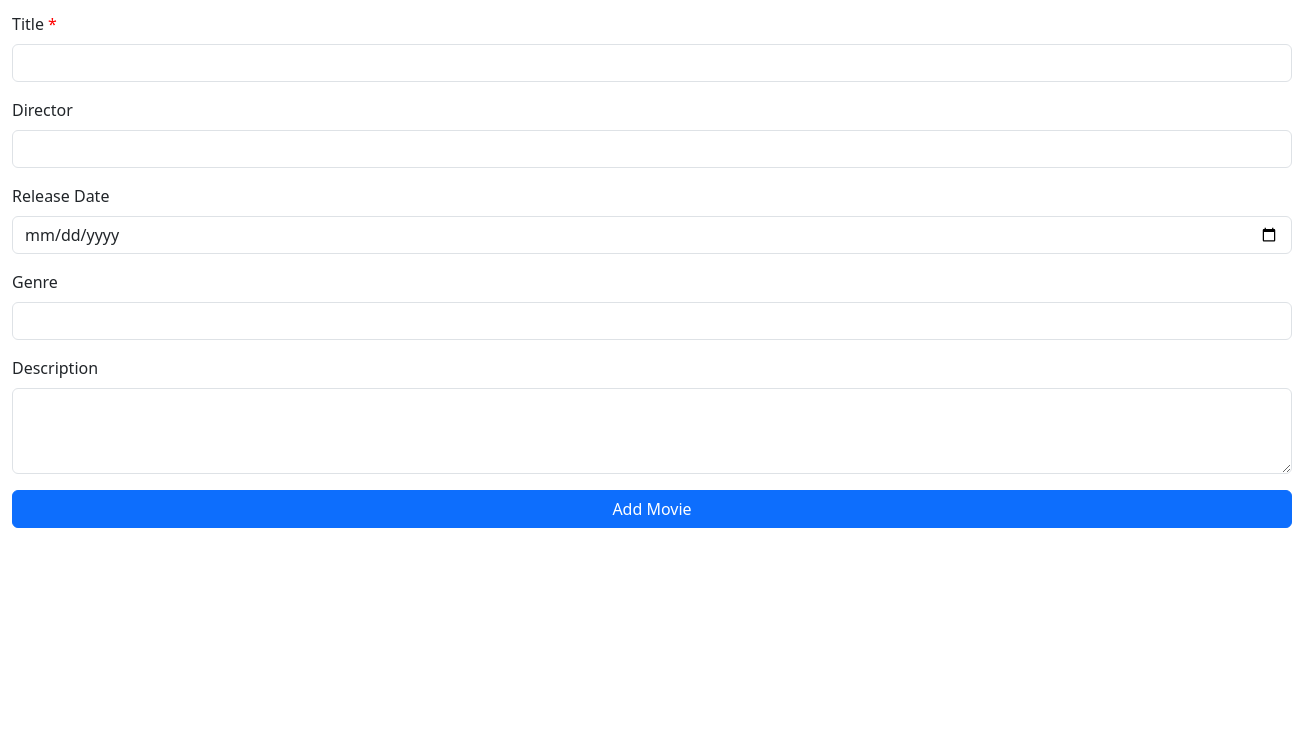
Scenario: MovieForm Component › clears validation error when user types in title field
// Submit form without entering a title to trigger validation error
Click the button with test id "submit-button": x=652, y=509 x1=12 y1=490 x2=1292 y2=528
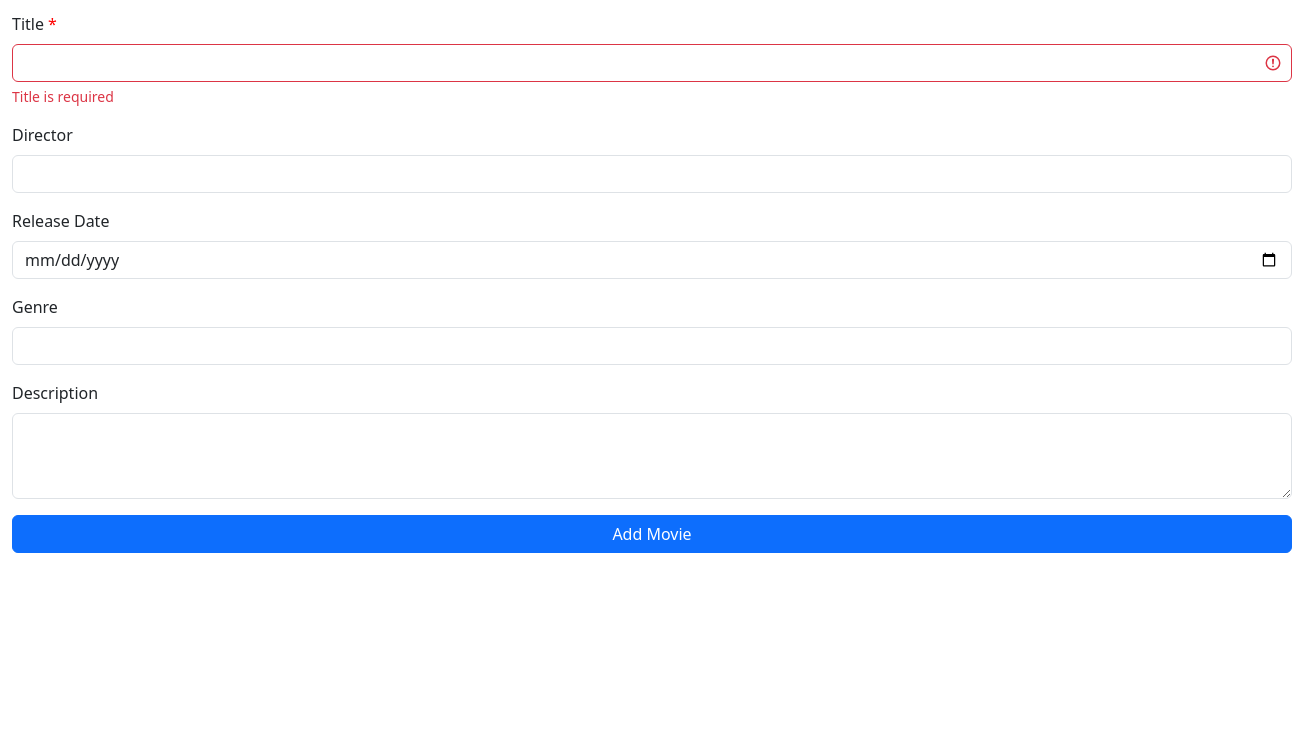
Check: the text "Title is required" is shown, box x1=12 y1=87 x2=114 y2=106
// Type in the title field
In the field with test id "title-input": x=652, y=63 x1=12 y1=44 x2=1292 y2=82, type "Test Title"
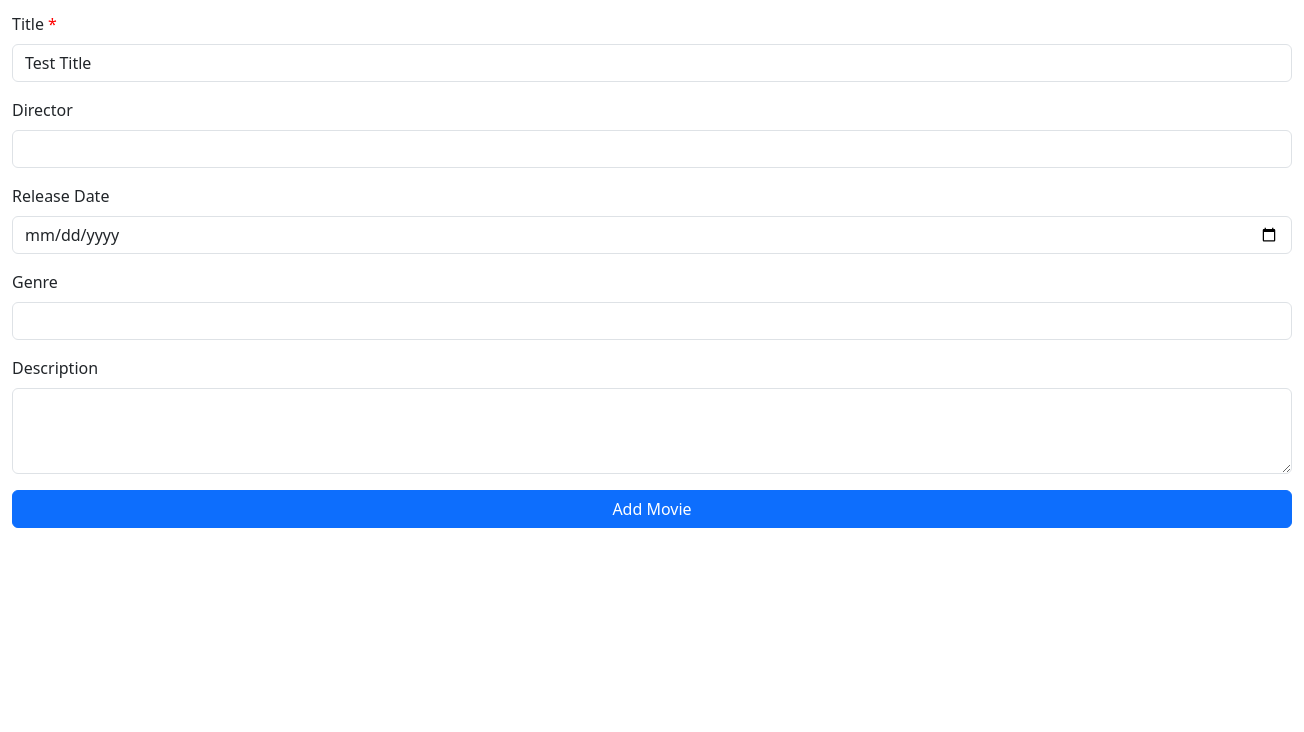
Check: the text "Title is required" is gone
